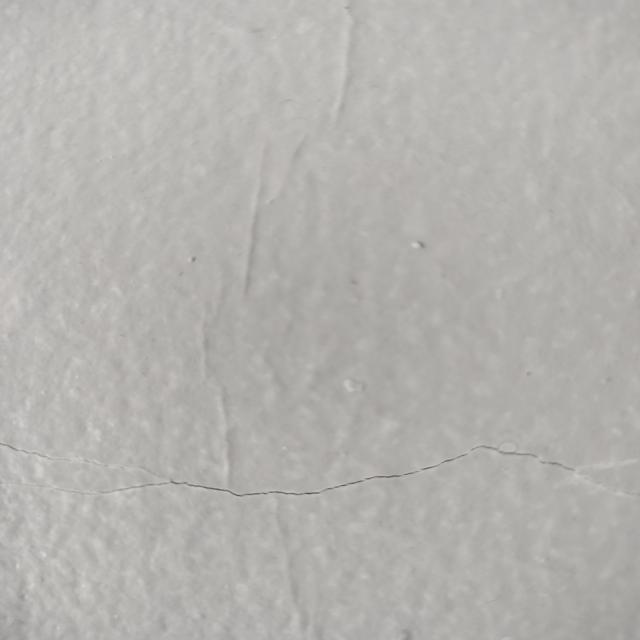Crack: (3, 434, 584, 501)
